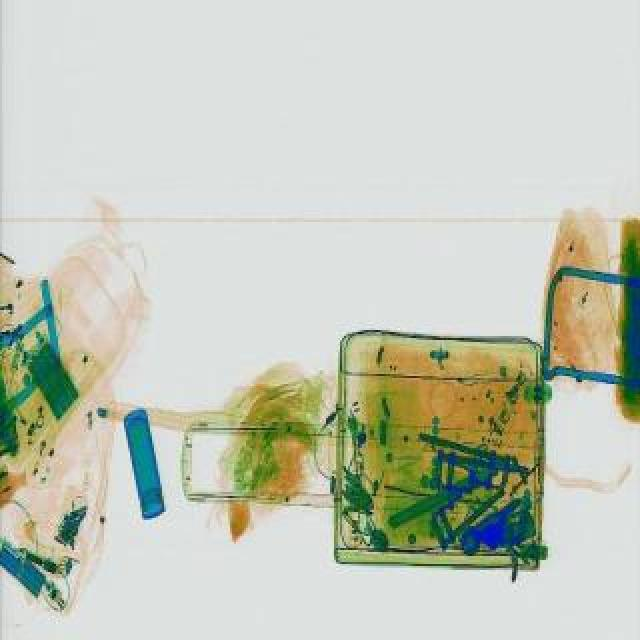wrench: (470, 490, 530, 546)
